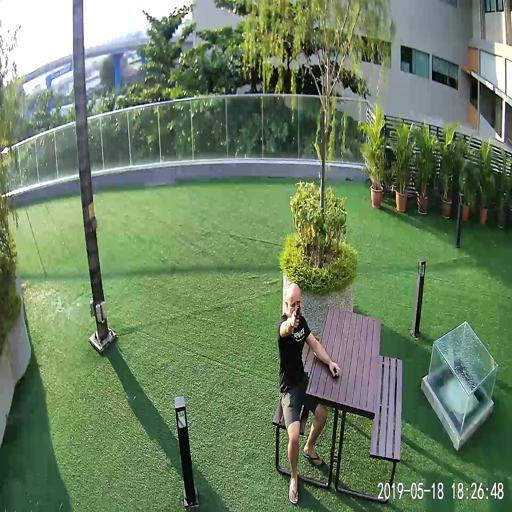pistol: (293, 302, 301, 327)
